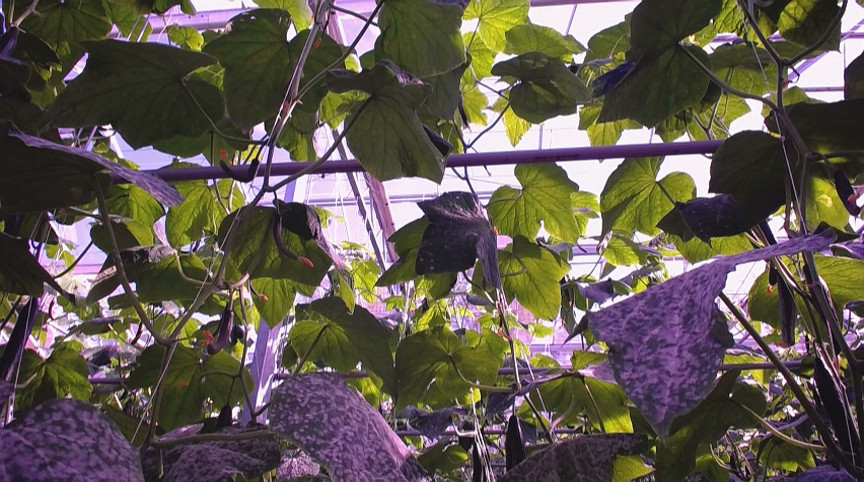cucumber: (815, 355, 861, 451), (1, 298, 41, 383), (505, 417, 528, 469)
